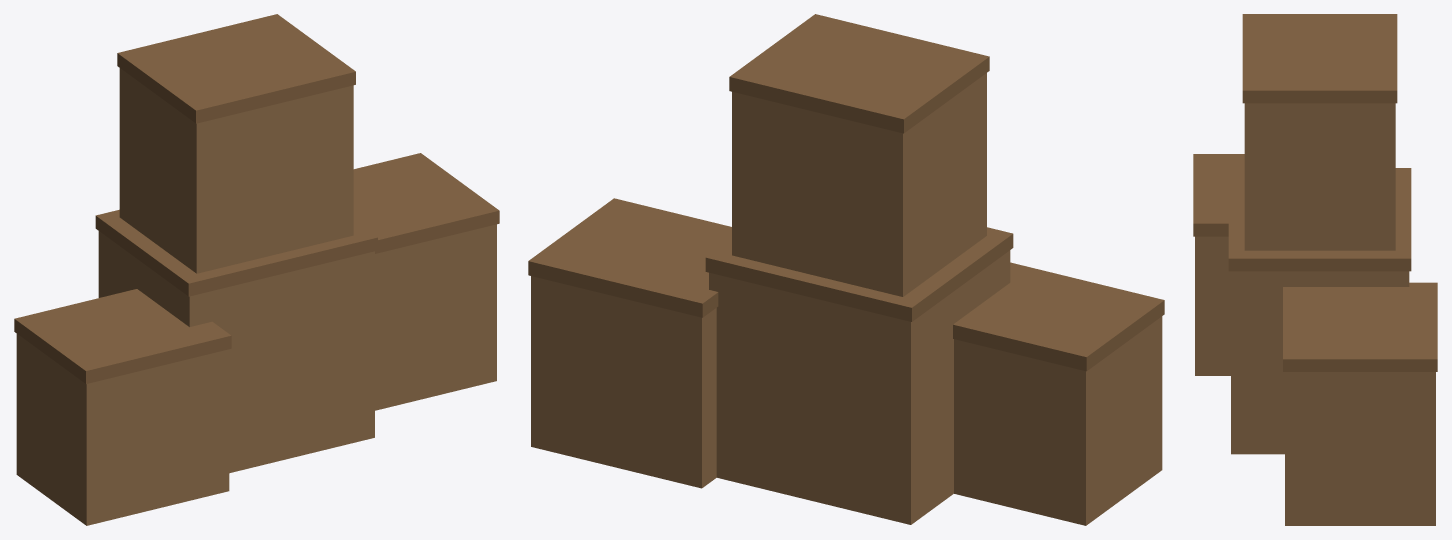
Rendered from wooden_crates.glb.
The picture shows the model from 3 angles, left to right: view 1: azimuth 30°, elevation 25°; view 2: azimuth 150°, elevation 25°; view 3: azimuth 270°, elevation 25°; orthographic projection. The views are drawn at different scales.
Visible parts, largest first — view 1: wooden_crates; view 2: wooden_crates; view 3: wooden_crates.
Boxes of the visible parts, x1,y1,x2,y2 form: wooden_crates: (14,14,499,525); wooden_crates: (528,14,1164,525); wooden_crates: (1193,14,1437,525).
Size of the model in its own units: 1.29 by 0.9775 by 0.6054.
